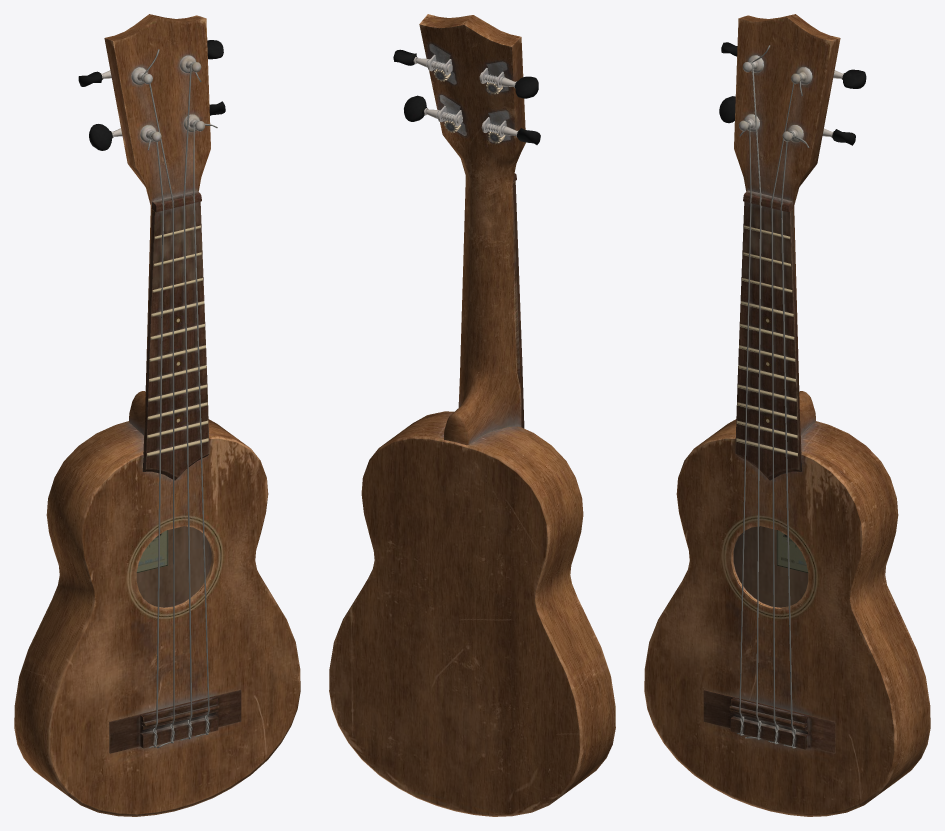
The model's file is Ukulele_01.glb.
3 views of the same model, side by side, from view 1: azimuth 30°, elevation 25°; view 2: azimuth 150°, elevation 25°; view 3: azimuth 330°, elevation 25° (orthographic).
Parts seen in each view (by area): view 1: Ukulele_01; view 2: Ukulele_01; view 3: Ukulele_01.
Part boxes in pixels (<box>): Ukulele_01: <box>14,14,300,816</box>; Ukulele_01: <box>329,14,615,816</box>; Ukulele_01: <box>644,14,930,816</box>.
Size of the model in its own units: 0.1779 by 0.527 by 0.0508.
1 material, 1 textured.
